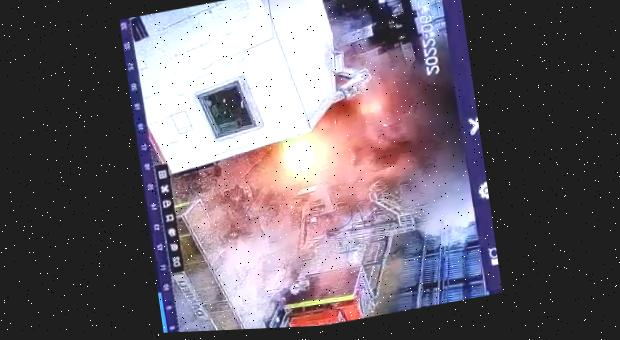fire: (234, 37, 417, 306)
